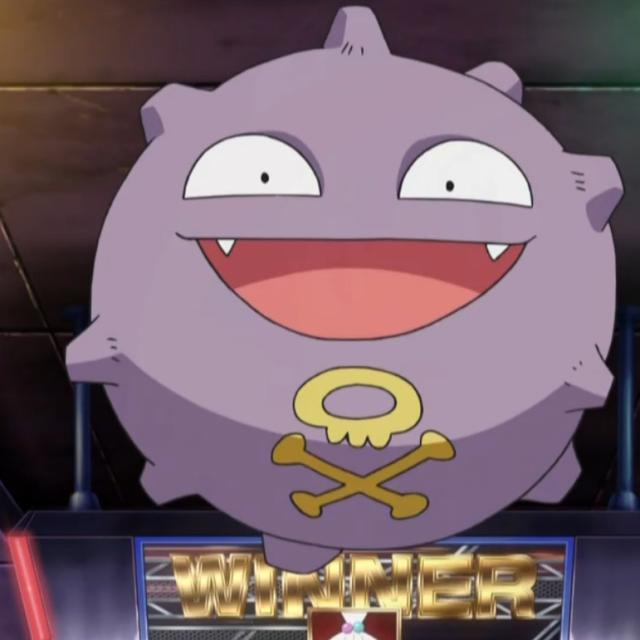Koffing: (88, 54, 637, 574)
